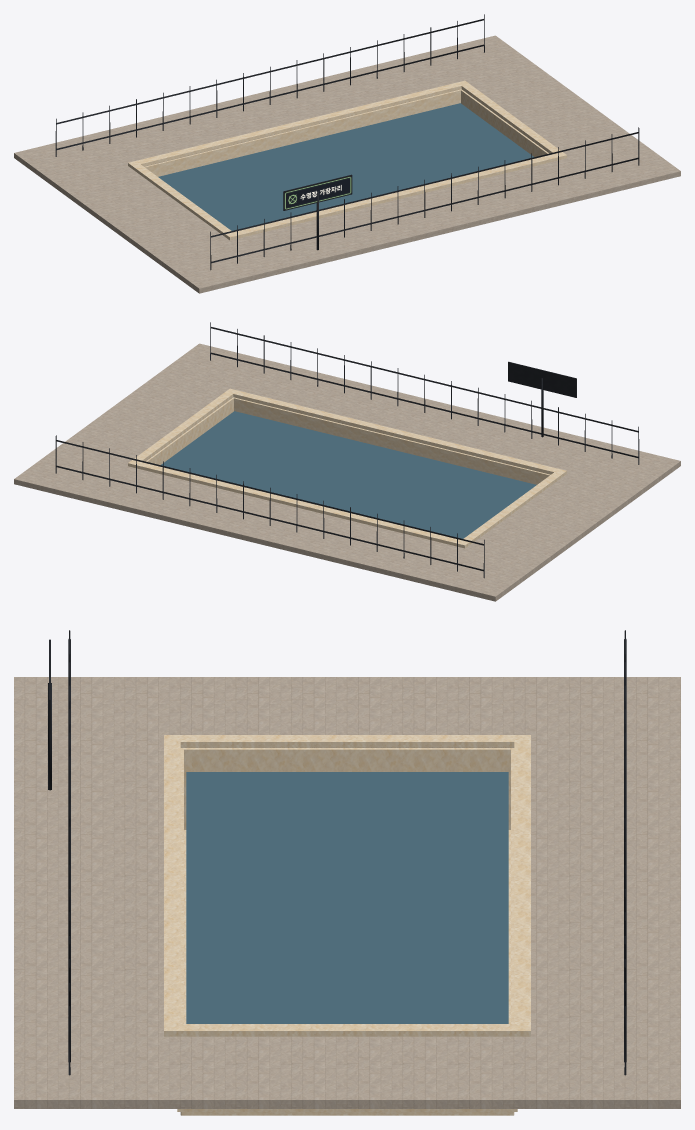
The model's file is explore3d__pool_edge.glb.
3 views of the same model, one above another, from view 1: azimuth 30°, elevation 25°; view 2: azimuth 150°, elevation 25°; view 3: azimuth 270°, elevation 25° (orthographic). The views are drawn at different scales.
Parts seen in each view (by area): view 1: Rebuilt_pool_edge; view 2: Rebuilt_pool_edge; view 3: Rebuilt_pool_edge.
Part boxes in pixels (x1=…): Rebuilt_pool_edge: x1=14, y1=14, x2=680, y2=293; Rebuilt_pool_edge: x1=14, y1=322, x2=680, y2=601; Rebuilt_pool_edge: x1=14, y1=630, x2=680, y2=1115.
Bounding box in the file's own units: 18 × 4.09 × 12.
5 materials, 4 textured.
